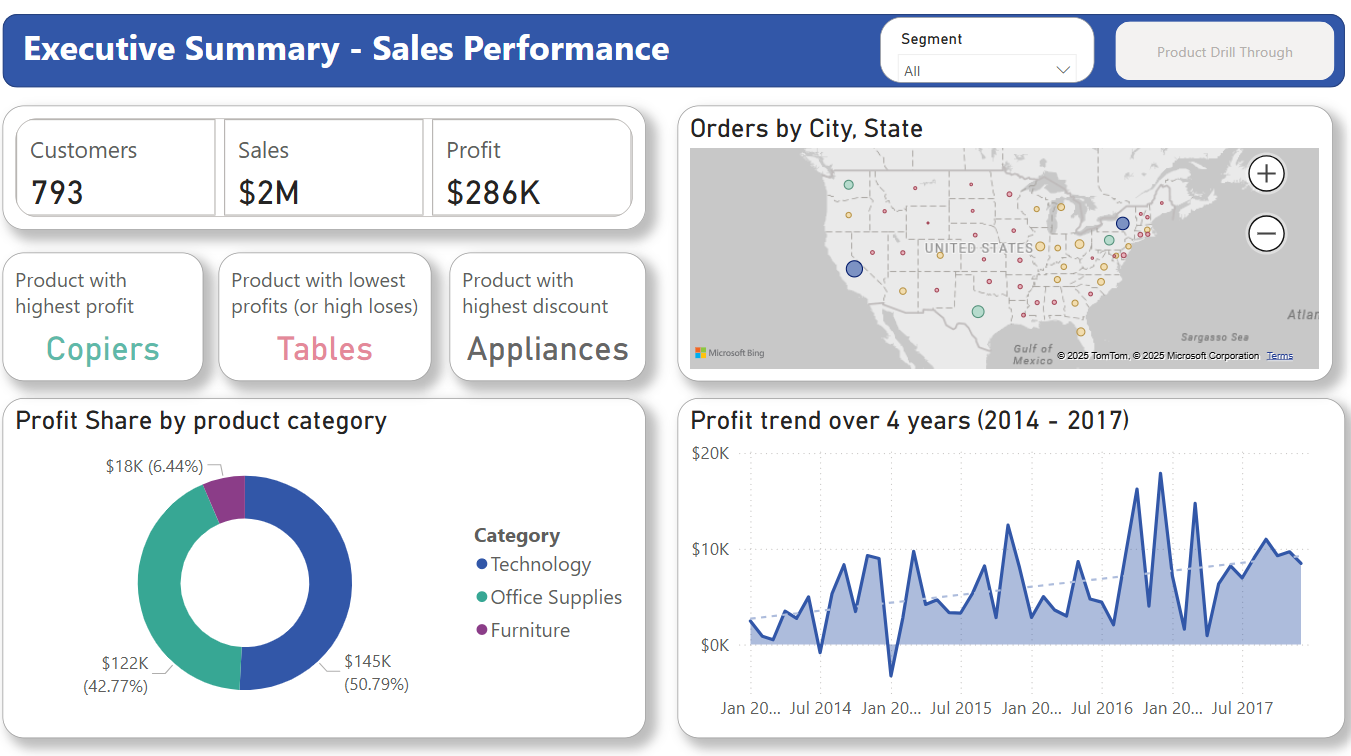

What the dashboard file says about the page in this screenshot:
{"tool":"powerbi","page":{"name":"Dashboard","canvas":[1280,720],"ordinal":0},"visuals":[{"type":"shape","box":[9.8,16.8,1252.1,68.6],"z":0},{"type":"donutChart","title":"Profit Share by product category","fields":{"Y":["Sum(Orders.Profit)"],"Category":["Orders.Category"]},"box":[9.8,374.9,600.2,317.6],"z":1000},{"type":"cardVisual","fields":{"Data":["Count(Orders.Customer ID)","Sum(Orders.Sales)","Sum(Orders.Profit)"]},"box":[9.8,102.1,600.2,116.1],"z":2000},{"type":"areaChart","title":"Profit trend over 4 years (2014 - 2017)","fields":{"Category":["Orders.Order Date.Variation.Date Hierarchy.Year","Orders.Order Date.Variation.Date Hierarchy.Month"],"Y":["Sum(Orders.Profit)"]},"box":[639.3,374.9,622.6,317.6],"z":3000},{"type":"textbox","box":[23.8,19.6,731.7,68.6],"z":4000},{"type":"actionButton","box":[1047.8,23.8,204.3,54.6],"z":5000},{"type":"card","fields":{"Values":["Min(Orders.Sub-Category)"]},"box":[9.8,239.2,187.5,120.3],"z":6000},{"type":"card","fields":{"Values":["Min(Orders.Sub-Category)"]},"box":[211.2,239.2,198.7,120.3],"z":7000},{"type":"card","fields":{"Values":["Min(Orders.Sub-Category)"]},"box":[426.7,239.2,183.3,120.3],"z":7001},{"type":"map","title":"Orders by City, State","fields":{"Category":["Orders.Country Hierarchy.Country","Orders.Country Hierarchy.State","Orders.Country Hierarchy.City"],"Size":["CountNonNull(Orders.Row ID)"]},"box":[639.3,102.1,611.4,257.4],"z":7002},{"type":"slicer","fields":{"Values":["Orders.Segment"]},"box":[828.2,19.6,200.1,61.6],"z":7003}]}

Visuals, with their boxes in screenshot pixels (x1, y1, x2, y2), scaled from the page's 1280x720 canvas onto the 1351x756 screenshot:
shape: {"left": 10, "top": 18, "right": 1332, "bottom": 90}
"Profit Share by product category" donutChart: {"left": 10, "top": 394, "right": 644, "bottom": 727}
cardVisual - Count(Orders.Customer ID) x Sum(Orders.Sales): {"left": 10, "top": 107, "right": 644, "bottom": 229}
"Profit trend over 4 years (2014 - 2017)" areaChart: {"left": 675, "top": 394, "right": 1332, "bottom": 727}
textbox: {"left": 25, "top": 21, "right": 797, "bottom": 93}
actionButton: {"left": 1106, "top": 25, "right": 1322, "bottom": 82}
card - Min(Orders.Sub-Category): {"left": 10, "top": 251, "right": 208, "bottom": 377}
card - Min(Orders.Sub-Category): {"left": 223, "top": 251, "right": 433, "bottom": 377}
card - Min(Orders.Sub-Category): {"left": 450, "top": 251, "right": 644, "bottom": 377}
"Orders by City, State" map: {"left": 675, "top": 107, "right": 1320, "bottom": 377}
slicer - Orders.Segment: {"left": 874, "top": 21, "right": 1085, "bottom": 85}
